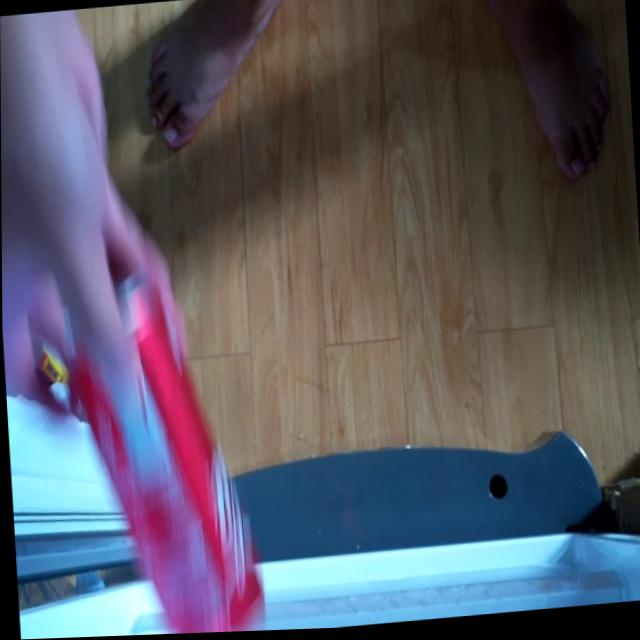coke: (60, 272, 266, 638)
